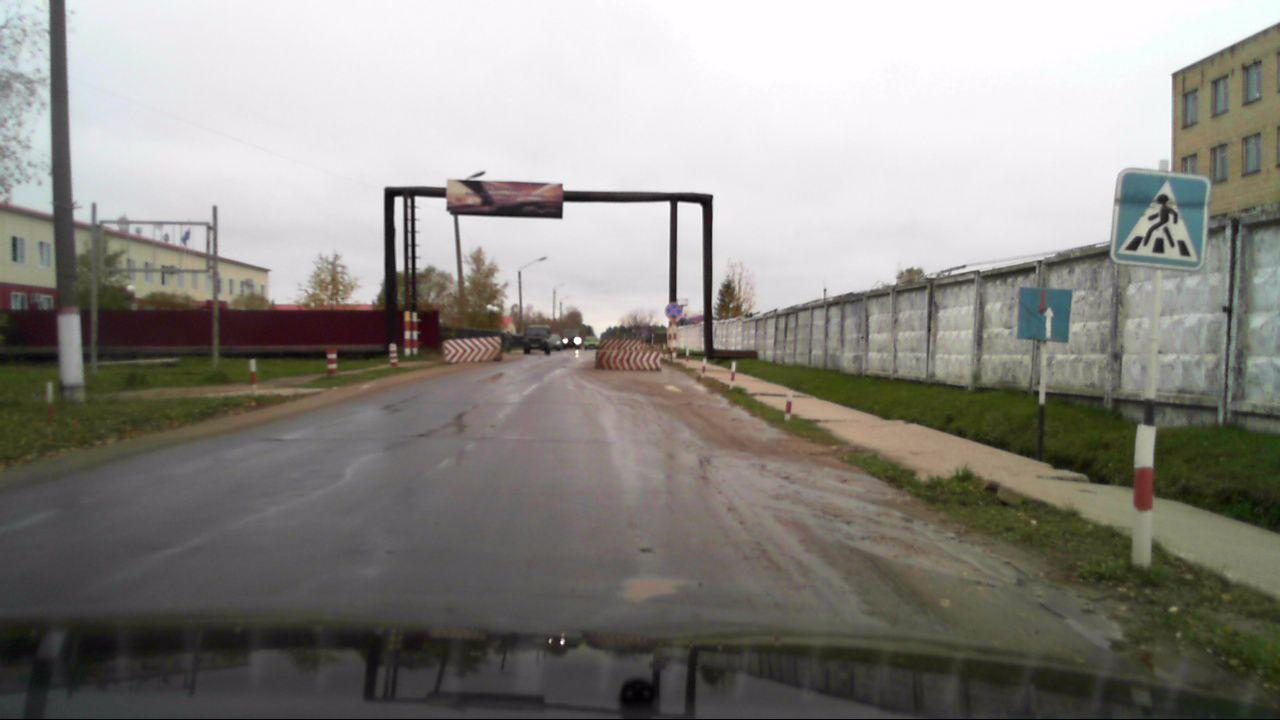road_sign: (1109, 167, 1210, 270), (1015, 287, 1072, 344), (665, 302, 683, 320)
